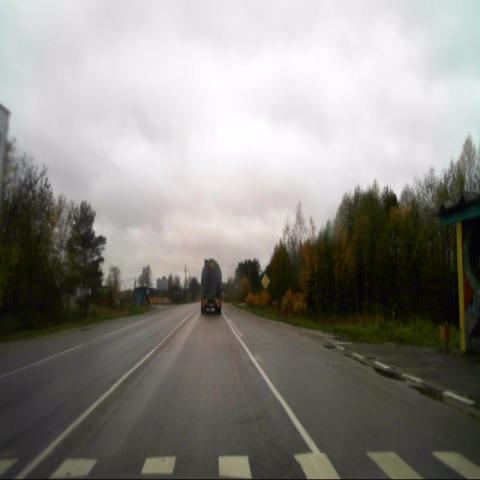2_1: (261, 272, 271, 291)
